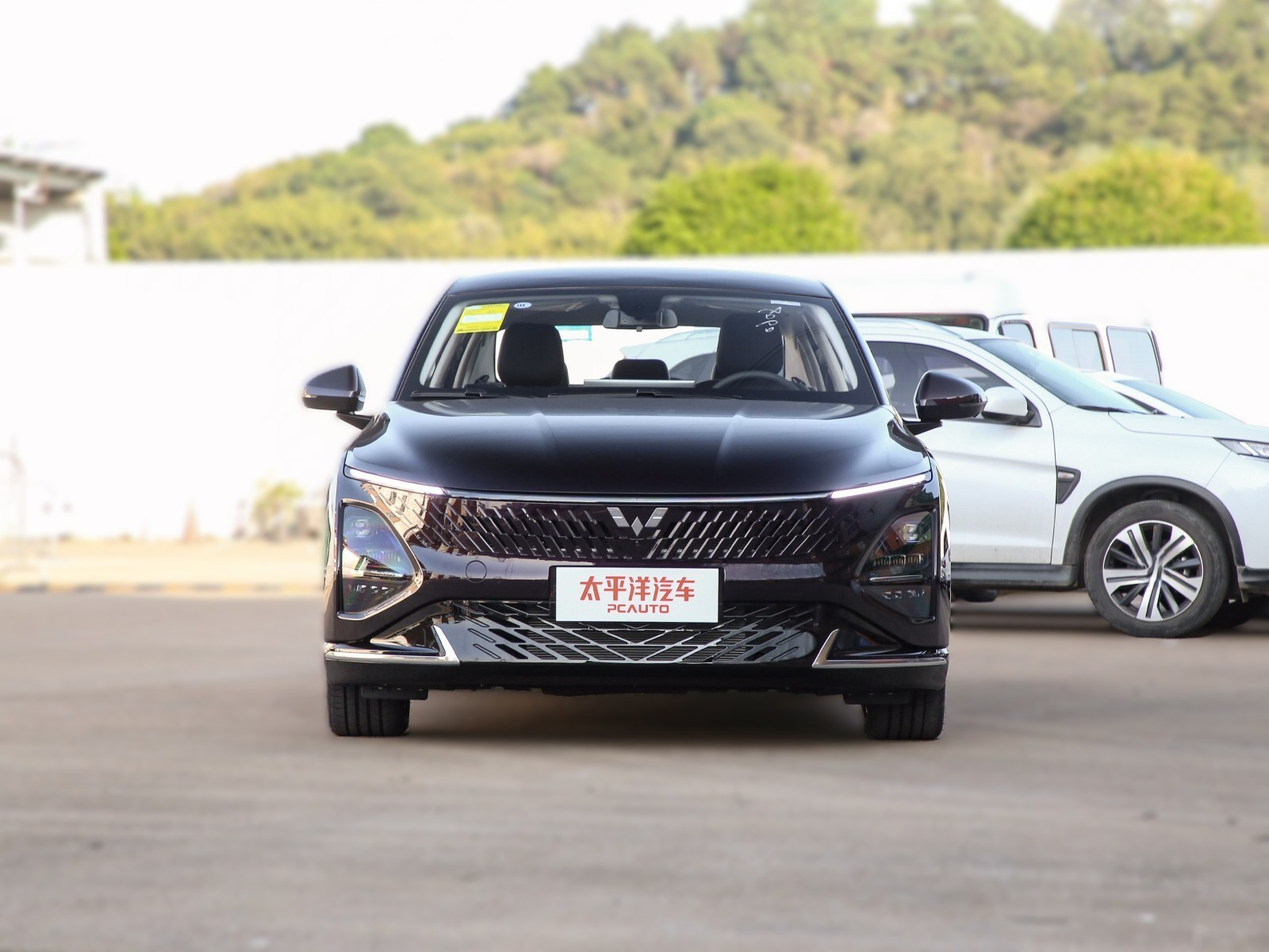SGMW: (608, 508, 668, 536)
